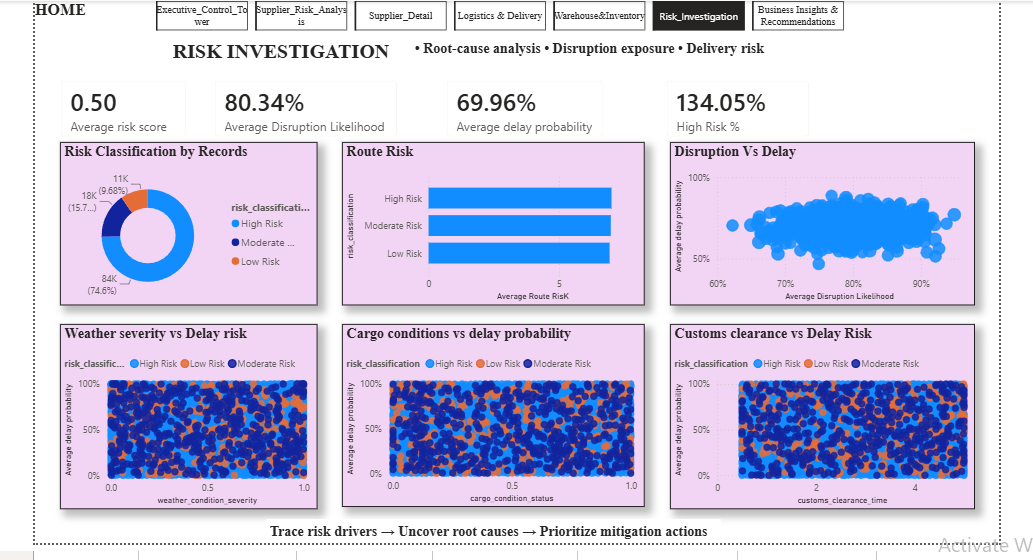

This screenshot's page, from the dashboard's own definition file:
{"tool":"powerbi","page":{"name":"Risk_Investigation","canvas":[1280,720],"ordinal":5},"visuals":[{"type":"textbox","box":[161,46.8,332.2,42.4],"z":0},{"type":"textbox","box":[499,46.8,547.3,42.4],"z":1000},{"type":"cardVisual","fields":{"Data":["Dim_Country.Average risk score"]},"box":[17.6,89.3,200.5,108.3],"z":2000},{"type":"cardVisual","fields":{"Data":["Dim_Country.Average Disruption Likelihood"]},"box":[222.4,89.3,276.6,108.3],"z":3000},{"type":"cardVisual","fields":{"Data":["Dim_Country.Average delay probability"]},"box":[529.8,89.3,242.9,108.3],"z":4000},{"type":"cardVisual","fields":{"Data":["Dim_Country.High Risk %"]},"box":[822.4,89.3,223.9,108.3],"z":5000},{"type":"donutChart","title":"Risk Classification by Records","fields":{"Y":["Dim_Country.Total Records"],"Category":["Fact_SupplyChain.risk_classification"]},"box":[33.7,187.3,342.4,216.6],"z":6000},{"type":"scatterChart","title":"Disruption Vs Delay","fields":{"X":["Dim_Country.Average Disruption Likelihood"],"Y":["Dim_Country.Average delay probability"],"Size":["Dim_Country.Average Shipping cost"],"Category":["Fact_SupplyChain.product_id"]},"box":[842.9,187.3,405.4,216.6],"z":7000},{"type":"clusteredBarChart","title":"Route Risk","fields":{"Category":["Fact_SupplyChain.risk_classification"],"Y":["Dim_Country.Average Route RisK"]},"box":[408.3,187.3,402.4,216.6],"z":8000},{"type":"scatterChart","title":"Weather severity vs Delay risk","fields":{"Y":["Dim_Country.Average delay probability"],"X":["Fact_SupplyChain.weather_condition_severity"],"Series":["Fact_SupplyChain.risk_classification"]},"box":[33.7,428.8,342.4,245.9],"z":9000},{"type":"scatterChart","title":"Cargo conditions vs delay probability","fields":{"Y":["Dim_Country.Average delay probability"],"X":["Fact_SupplyChain.cargo_condition_status"],"Series":["Fact_SupplyChain.risk_classification"]},"box":[408.3,428.8,402.4,242.9],"z":10000},{"type":"scatterChart","title":"Customs clearance vs Delay Risk","fields":{"Y":["Dim_Country.Average delay probability"],"X":["Fact_SupplyChain.customs_clearance_time"],"Series":["Fact_SupplyChain.risk_classification"]},"box":[842.9,428.8,405.4,245.9],"z":11000},{"type":"pageNavigator","box":[161,0,914.6,39.5],"z":12000},{"type":"actionButton","title":"HOME","box":[0,0,100,40],"z":13000},{"type":"textbox","box":[306.9,688.2,604.2,31.7],"z":14000}]}

Visuals, with their boxes on the page's 1280x720 design canvas (x1, y1, x2, y2). These are canvas units, not pixel positions in the 1033x560 screenshot, which may show the page scaled, cropped or inside an application window:
textbox: [161,47,493,89]
textbox: [499,47,1046,89]
cardVisual - Dim_Country.Average risk score: [18,89,218,198]
cardVisual - Dim_Country.Average Disruption Likelihood: [222,89,499,198]
cardVisual - Dim_Country.Average delay probability: [530,89,773,198]
cardVisual - Dim_Country.High Risk %: [822,89,1046,198]
"Risk Classification by Records" donutChart: [34,187,376,404]
"Disruption Vs Delay" scatterChart: [843,187,1248,404]
"Route Risk" clusteredBarChart: [408,187,811,404]
"Weather severity vs Delay risk" scatterChart: [34,429,376,675]
"Cargo conditions vs delay probability" scatterChart: [408,429,811,672]
"Customs clearance vs Delay Risk" scatterChart: [843,429,1248,675]
pageNavigator: [161,0,1076,40]
"HOME" actionButton: [0,0,100,40]
textbox: [307,688,911,720]
